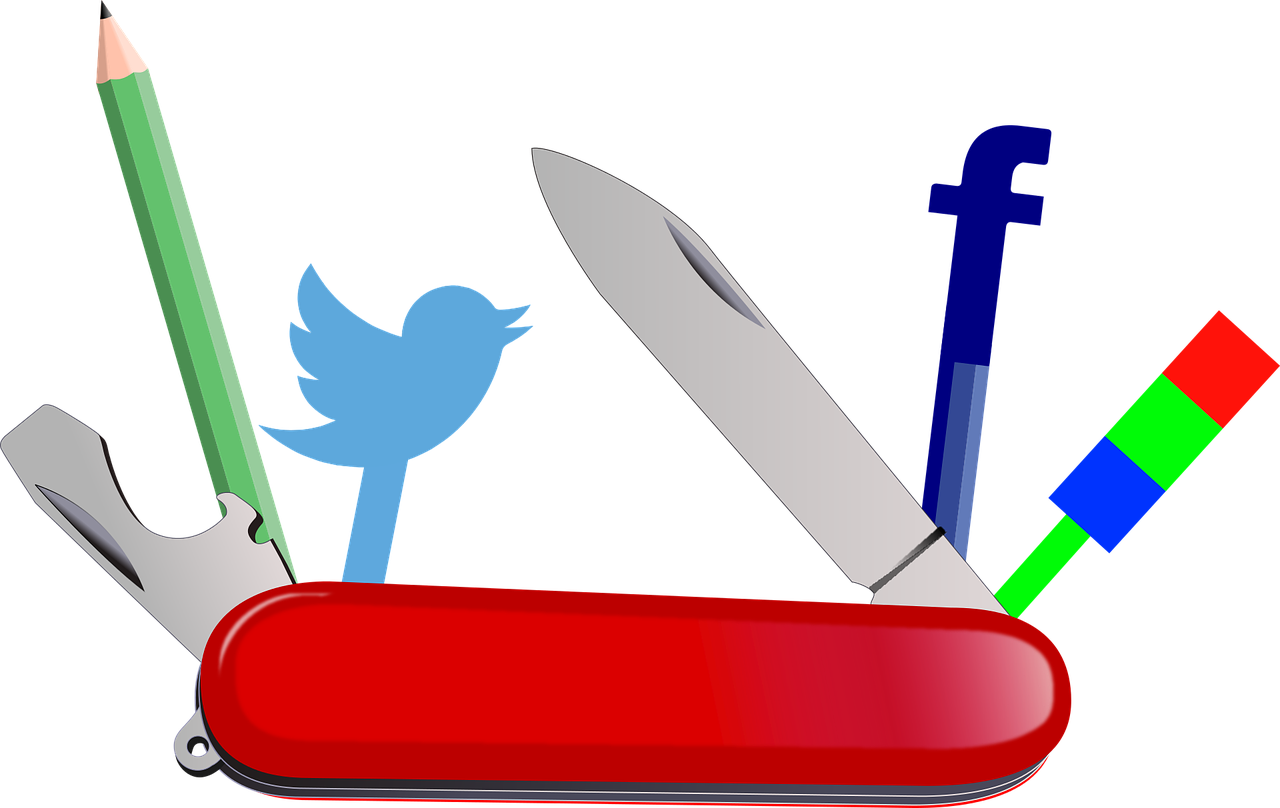knife: (517, 139, 1034, 675), (0, 398, 298, 668)
